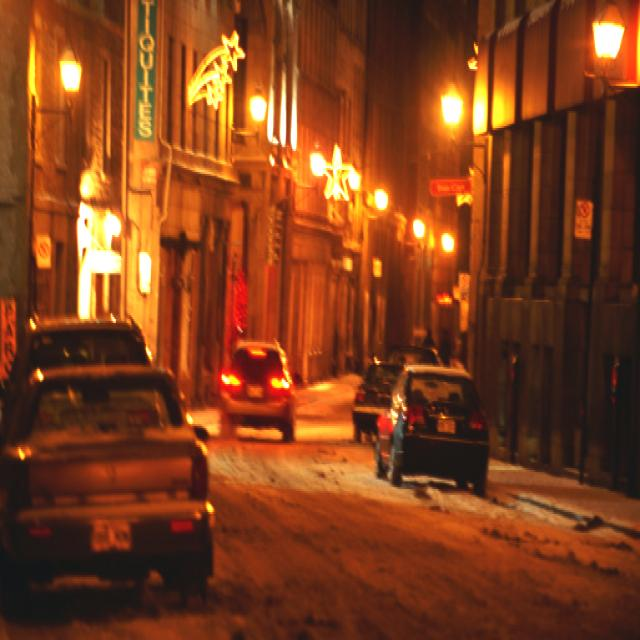Car: (2, 364, 213, 614), (375, 364, 489, 498), (216, 342, 298, 449)
